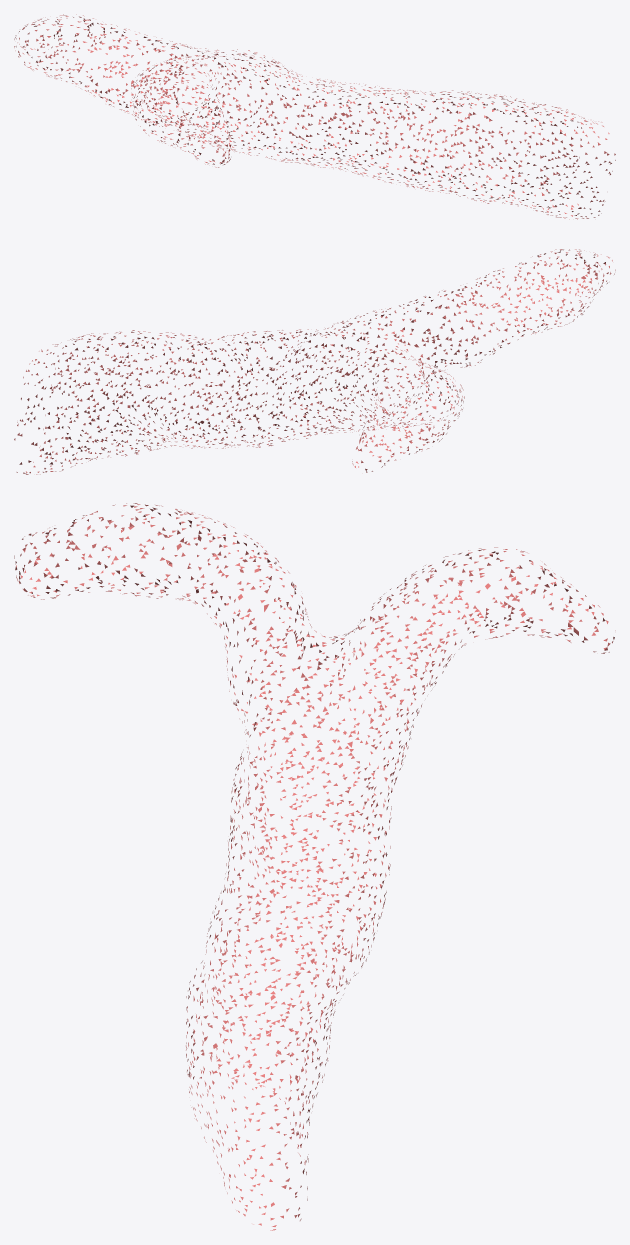
The model's file is morph_000.glb.
3 renders of one model, top to bottom at view 1: azimuth 30°, elevation 25°; view 2: azimuth 150°, elevation 25°; view 3: azimuth 270°, elevation 25°, orthographic. The views are drawn at different scales.
Size of the model in its own units: 117 by 62.96 by 86.41.
